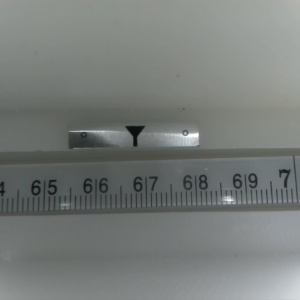4: (0, 181, 6, 197)
5: (47, 179, 57, 195)
6: (29, 179, 41, 196), (231, 173, 242, 189), (132, 176, 142, 192), (182, 174, 192, 190), (98, 177, 108, 193), (82, 178, 92, 193)
7: (278, 169, 290, 188), (148, 176, 158, 191)
8: (198, 174, 208, 190)
9: (247, 173, 257, 189)
finger: (123, 126, 145, 148)
